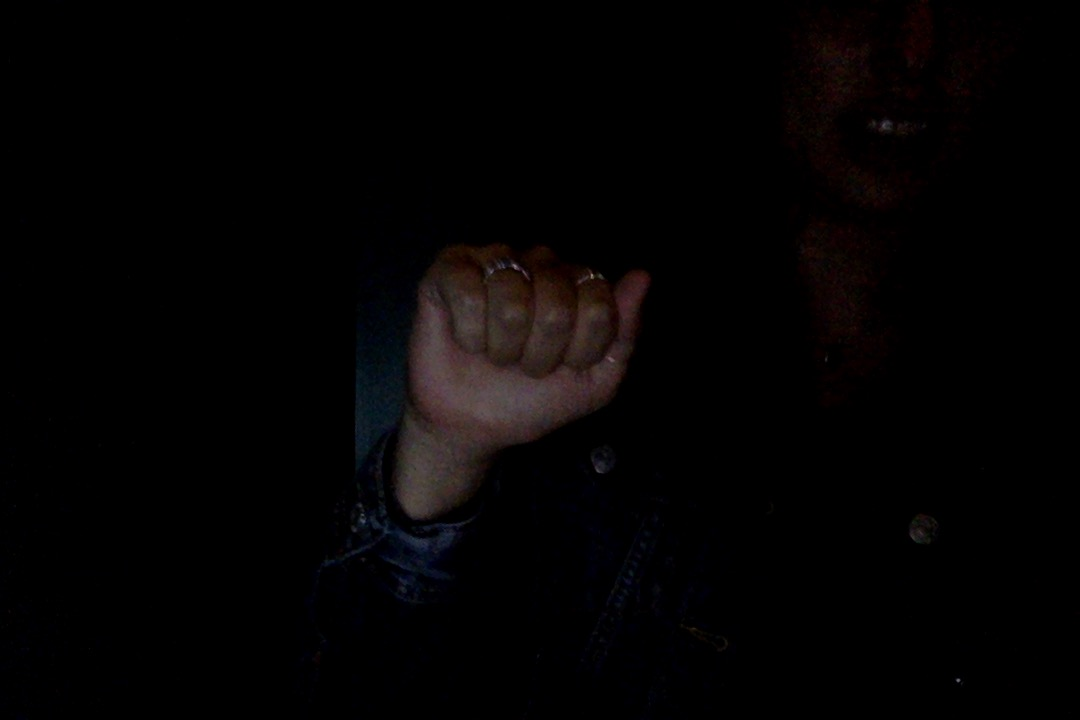a: (361, 200, 665, 544)
